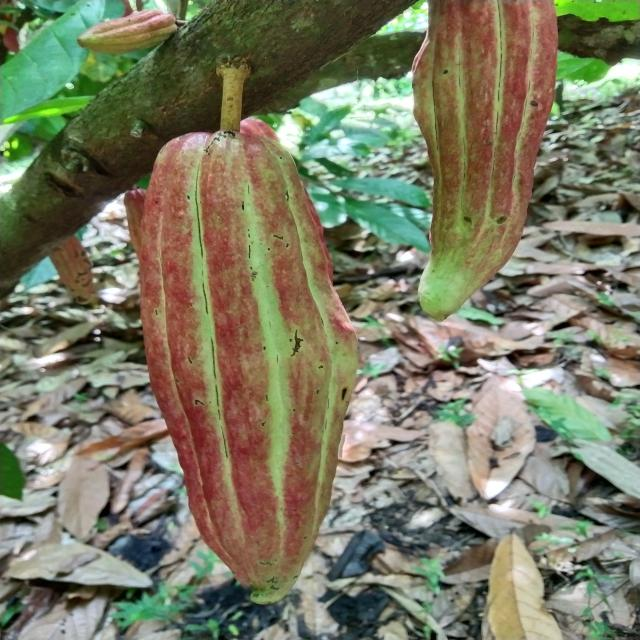Sana: (144, 122, 363, 605), (420, 0, 564, 314), (76, 12, 180, 50)
